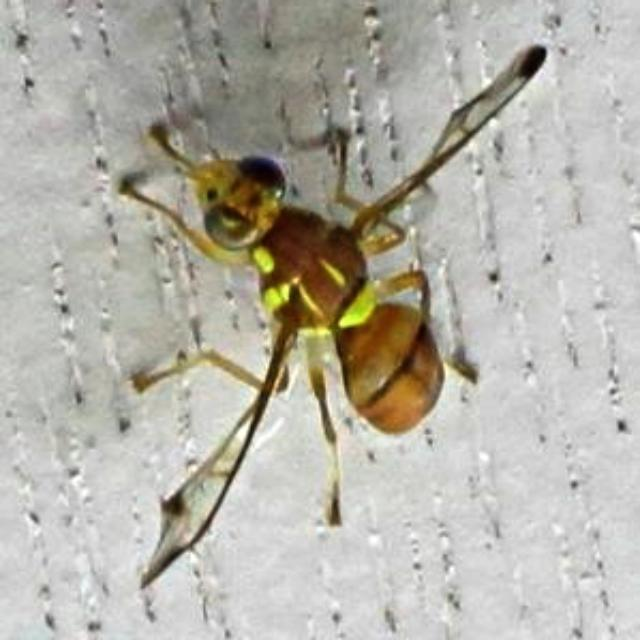melon fly: (48, 13, 574, 591)
